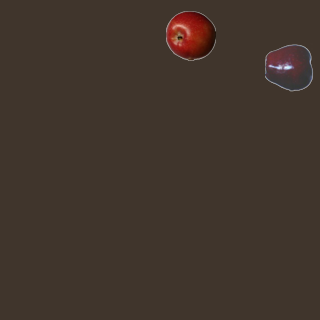Apple Braeburn: (165, 10, 215, 60)
Apple Red Delicious: (264, 42, 314, 92)
